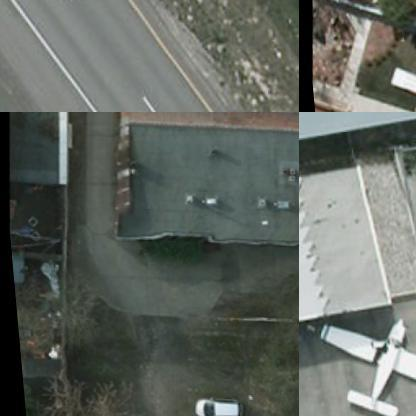car: (182, 395, 242, 415)
plane: (299, 288, 415, 415)
